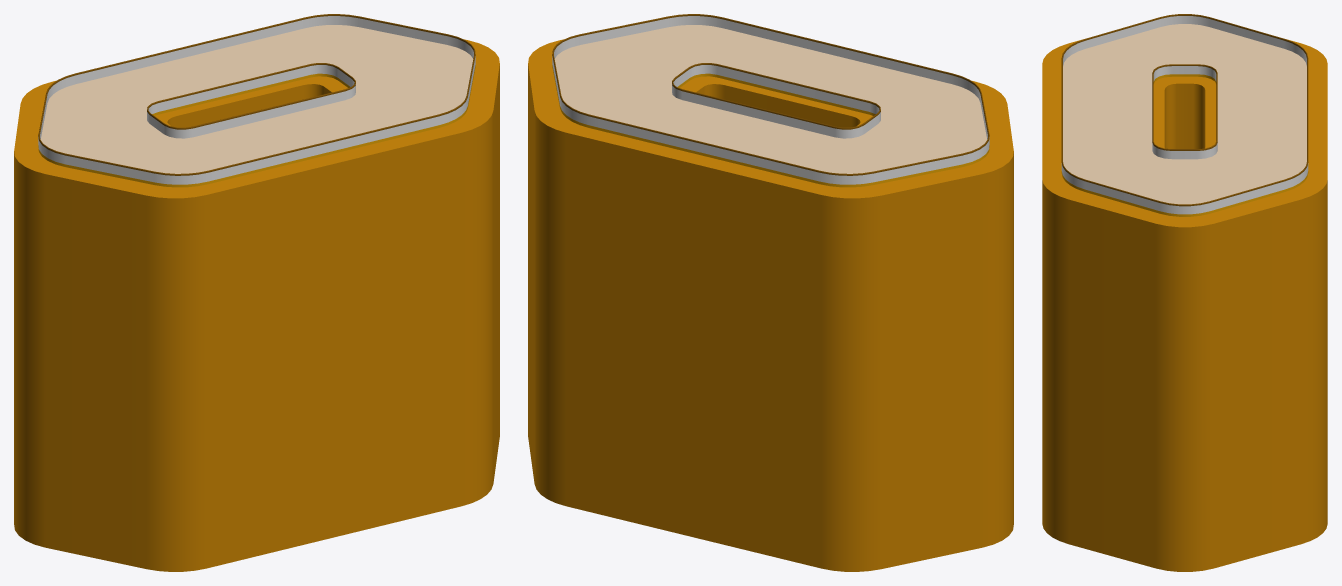
The picture shows the model from 3 angles, left to right: view 1: azimuth 30°, elevation 25°; view 2: azimuth 150°, elevation 25°; view 3: azimuth 270°, elevation 25°; orthographic projection. The views are drawn at different scales.
Visible parts, largest first — view 1: base26, base6, polySurface1201, polySurface1022, polySurface1202, polySurface1203; view 2: base26, base6, polySurface1201, polySurface1022, polySurface1202, polySurface1203; view 3: base26, base6, polySurface1202, polySurface1203, polySurface1022, polySurface1201.
Boxes of the visible parts, x1,y1,x2,y2 form: base26: (14, 39, 499, 571); base6: (38, 25, 475, 187); polySurface1201: (147, 65, 355, 138); polySurface1022: (38, 14, 475, 175); polySurface1202: (297, 16, 475, 127); polySurface1203: (38, 73, 215, 184); base26: (528, 39, 1013, 571); base6: (552, 25, 989, 187); polySurface1201: (672, 65, 880, 138); polySurface1022: (552, 14, 989, 175); polySurface1202: (552, 16, 730, 127); polySurface1203: (812, 73, 989, 184); base26: (1042, 39, 1327, 571); base6: (1061, 24, 1308, 216); polySurface1202: (1061, 163, 1308, 214); polySurface1203: (1063, 16, 1306, 65); polySurface1022: (1061, 14, 1308, 206); polySurface1201: (1152, 66, 1217, 159).
Bounding box in the file's own units: 145 × 114 × 82.96.
